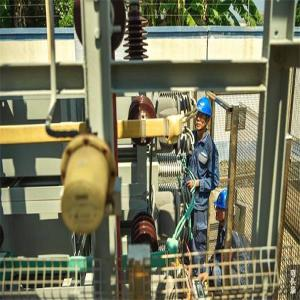blue: (213, 189, 235, 225), (193, 96, 213, 133)
